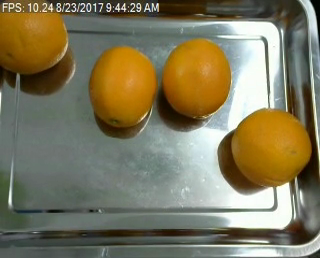Orange: (232, 108, 312, 187), (162, 39, 232, 120), (90, 44, 156, 127), (1, 1, 69, 75)
